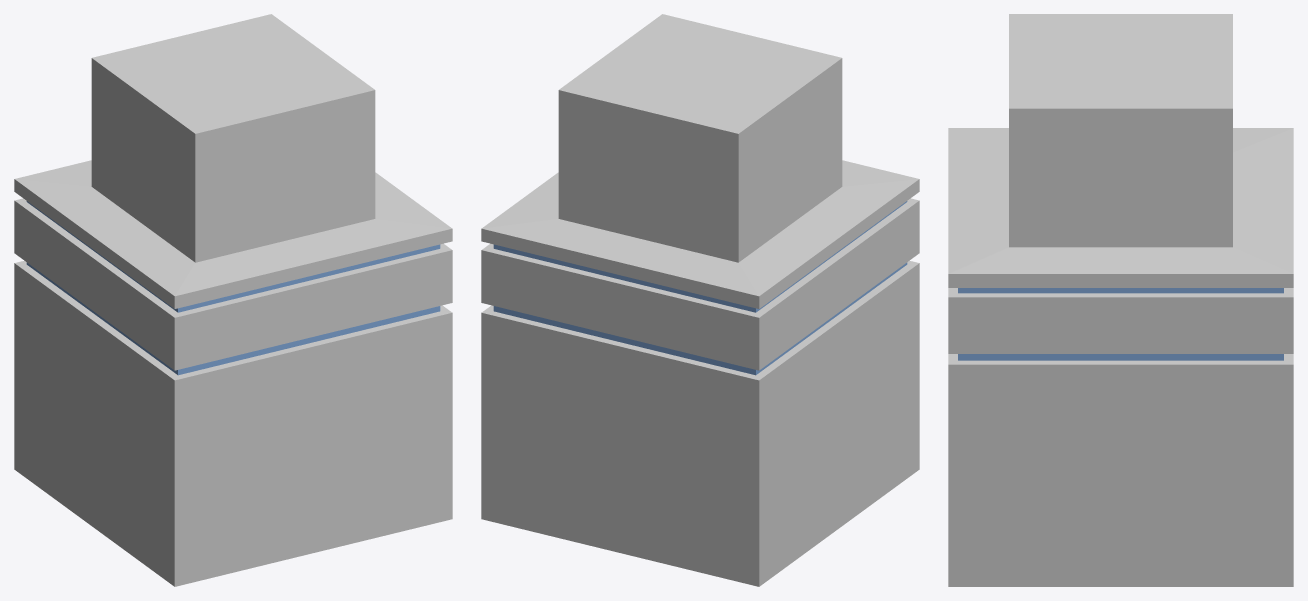
Rendered from bulding.fbx.
The picture shows the model from 3 angles, left to right: view 1: azimuth 30°, elevation 25°; view 2: azimuth 150°, elevation 25°; view 3: azimuth 270°, elevation 25°; orthographic projection. The views are drawn at different scales.
Visible parts, largest first — view 1: Cube; view 2: Cube; view 3: Cube.
Boxes of the visible parts, x1=… form: Cube: x1=14, y1=14, x2=452, y2=586; Cube: x1=481, y1=14, x2=919, y2=586; Cube: x1=948, y1=14, x2=1293, y2=586.
Size of the model in its own units: 200 by 289 by 200.
